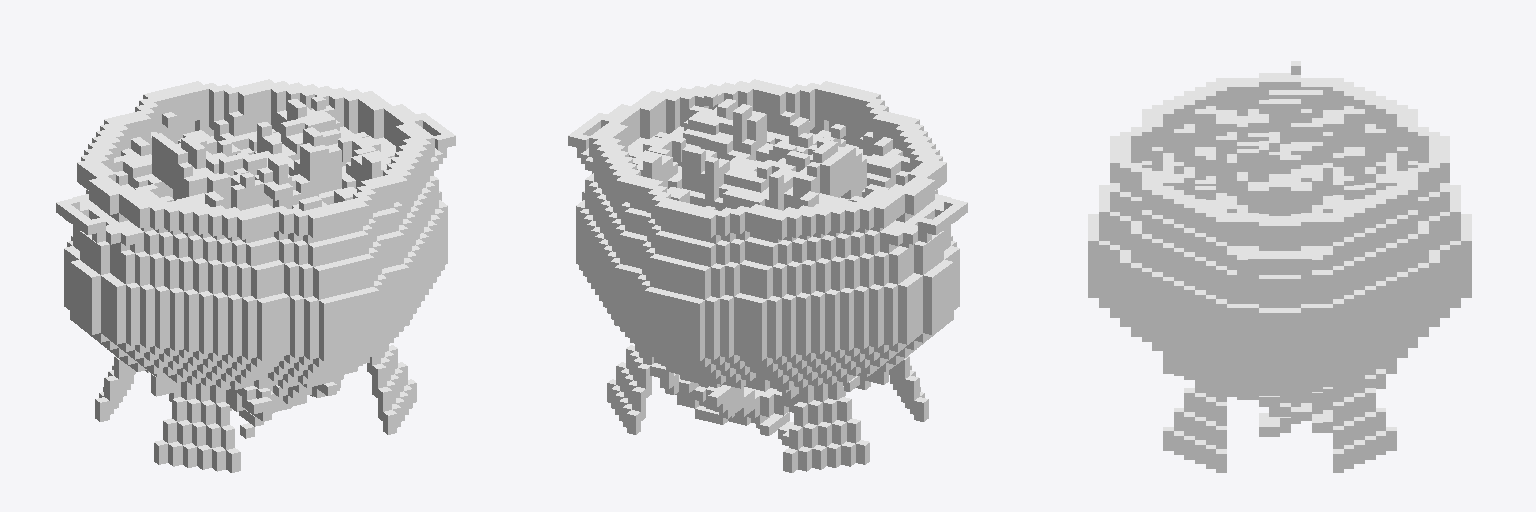
File: pot02.obj
The picture shows the model from 3 angles: view 1: azimuth 30°, elevation 25°; view 2: azimuth 150°, elevation 25°; view 3: azimuth 270°, elevation 25°; orthographic projection.
Parts seen in each view (by area): view 1: object 1; view 2: object 1; view 3: object 1.
Boxes of the visible parts, box(x1,y1,x2,y2) form: object 1: box(56, 79, 455, 472); object 1: box(568, 79, 967, 472); object 1: box(1088, 61, 1471, 472).
Size of the model in its own units: 4 by 3.2 by 3.6.